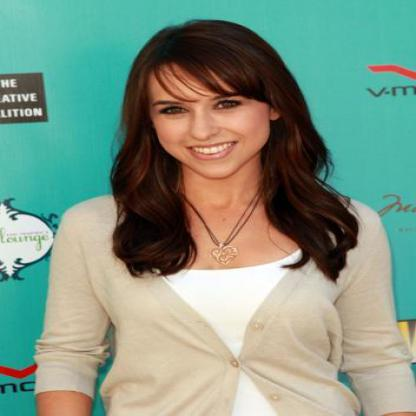long-hair: (101, 176, 350, 232)
